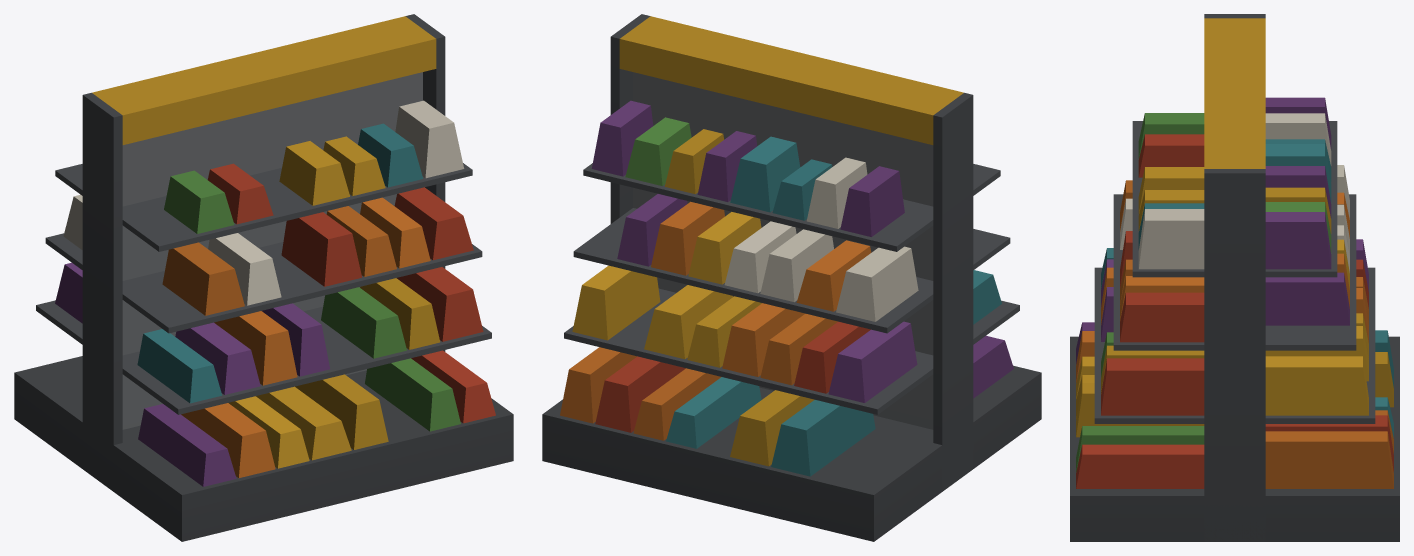
The model's file is shelf.gondola_snack.dark.glb.
The picture shows the model from 3 angles, left to right: view 1: azimuth 30°, elevation 25°; view 2: azimuth 150°, elevation 25°; view 3: azimuth 270°, elevation 25°; orthographic projection.
Visible parts, largest first — view 1: shelf_gondola_snack_dark; view 2: shelf_gondola_snack_dark; view 3: shelf_gondola_snack_dark.
Boxes of the visible parts, x1,y1,x2,y2 form: shelf_gondola_snack_dark: (14,14,513,541); shelf_gondola_snack_dark: (542,14,1041,541); shelf_gondola_snack_dark: (1070,14,1399,541).
Size of what is drawn, in the model's own units: 1.85 by 2 by 1.62.
